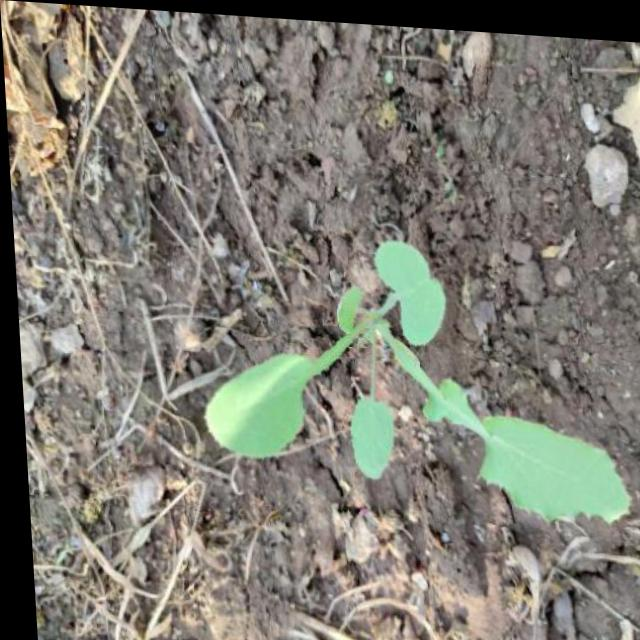weed: (161, 219, 634, 531)
